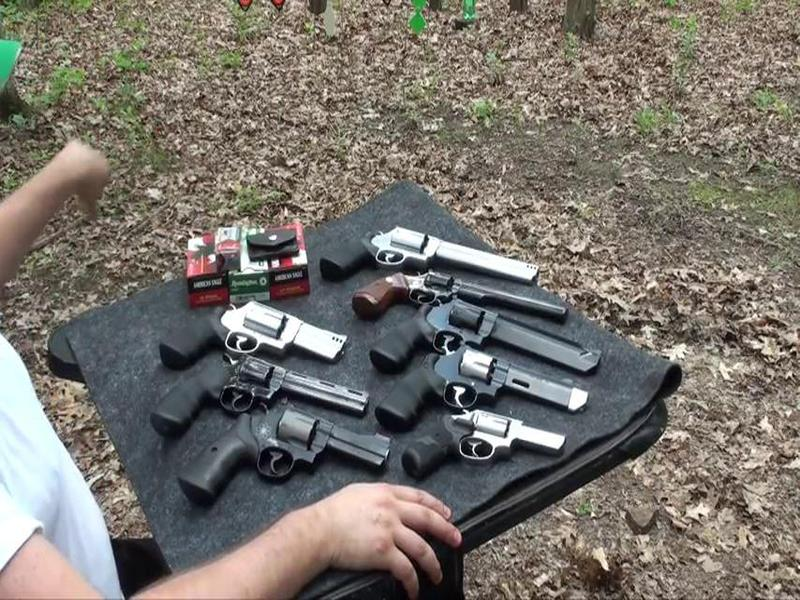Revolver: (380, 404, 559, 493)
